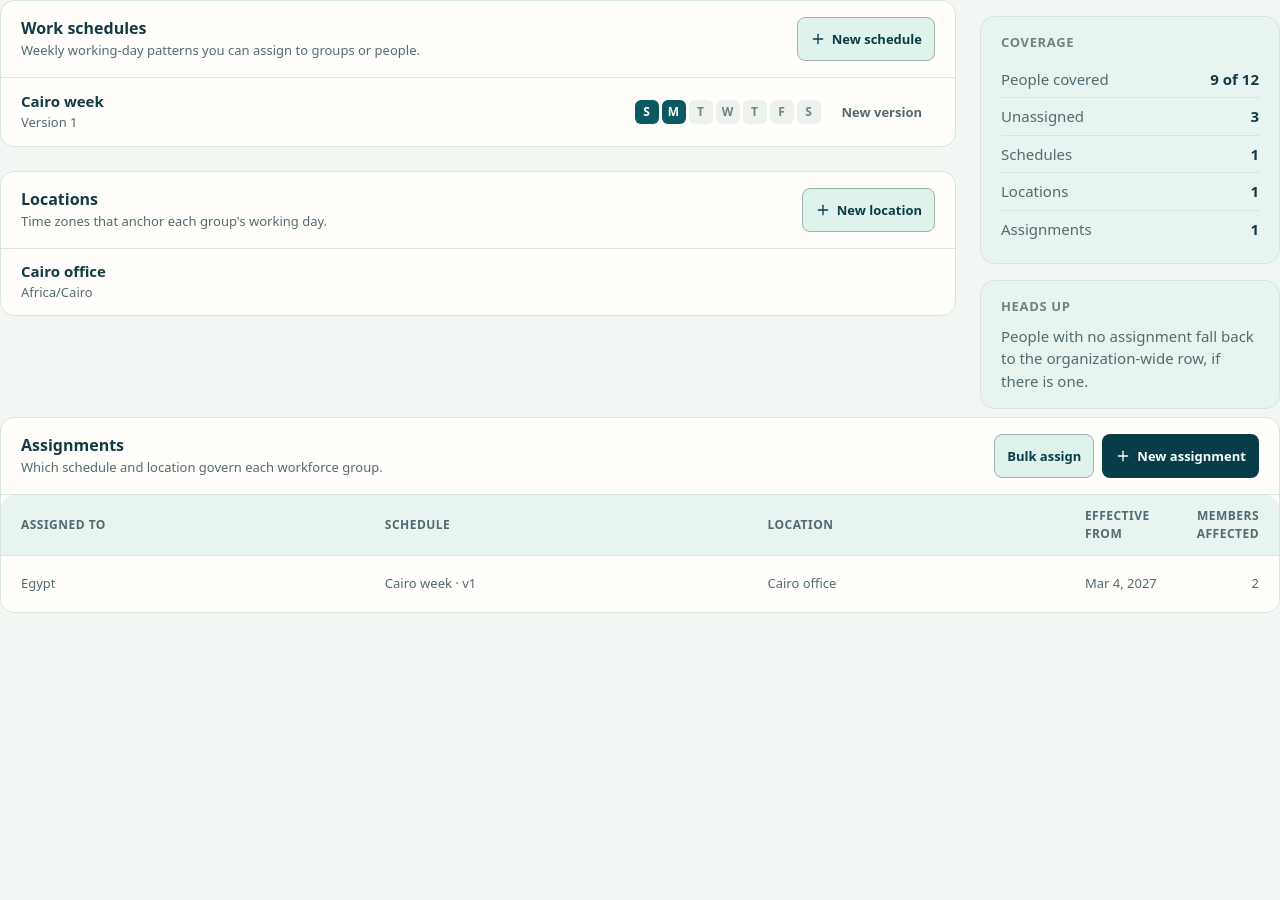
Test: ScheduleLocationSettingsPage › opens the bulk assignment modal from the assignments header
Click the button with test id "new-bulk-schedule-assignment" at point(1044, 456), box [994,434,1094,478]
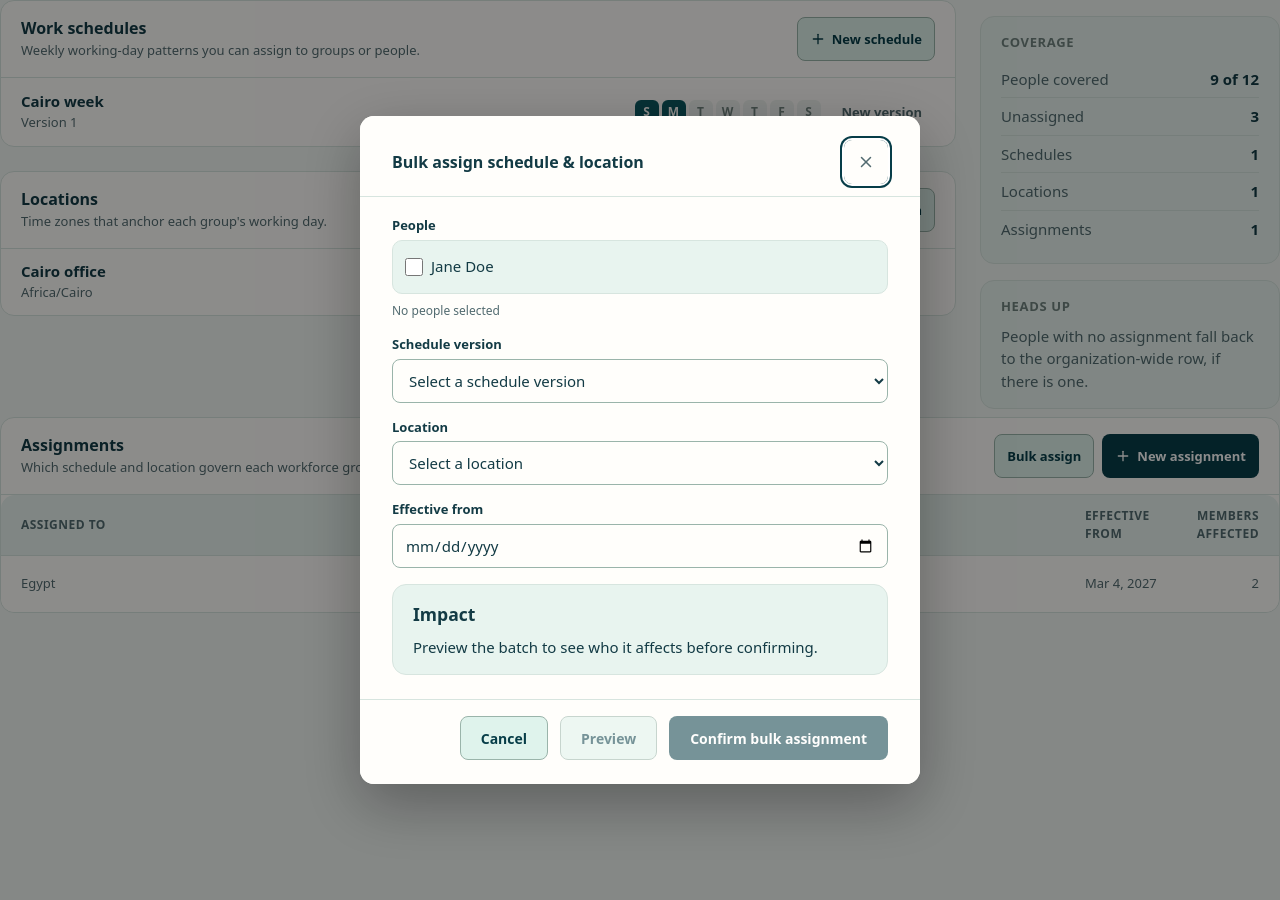
Now the dialog with test id "bulk-schedule-assignment-modal" is shown, box [360,116,920,784]
Now the list with test id "bulk-assignment-subjects-list" reads "Jane Doe", box [431,256,494,276]
